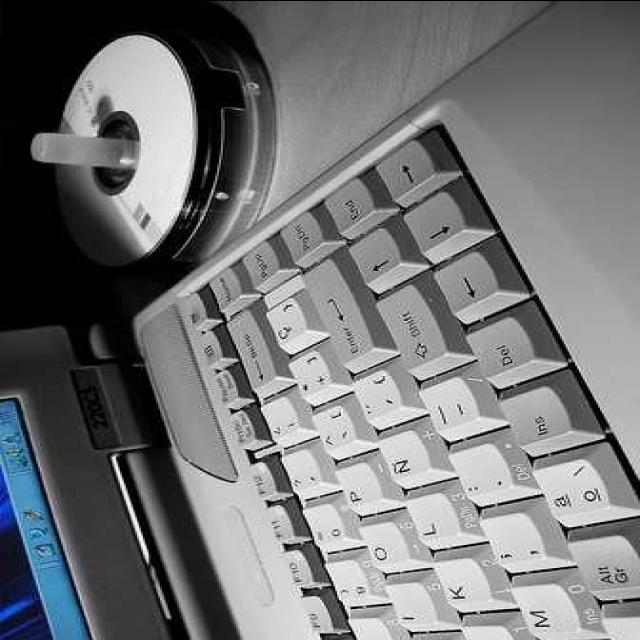laptop: (18, 332, 604, 638)
